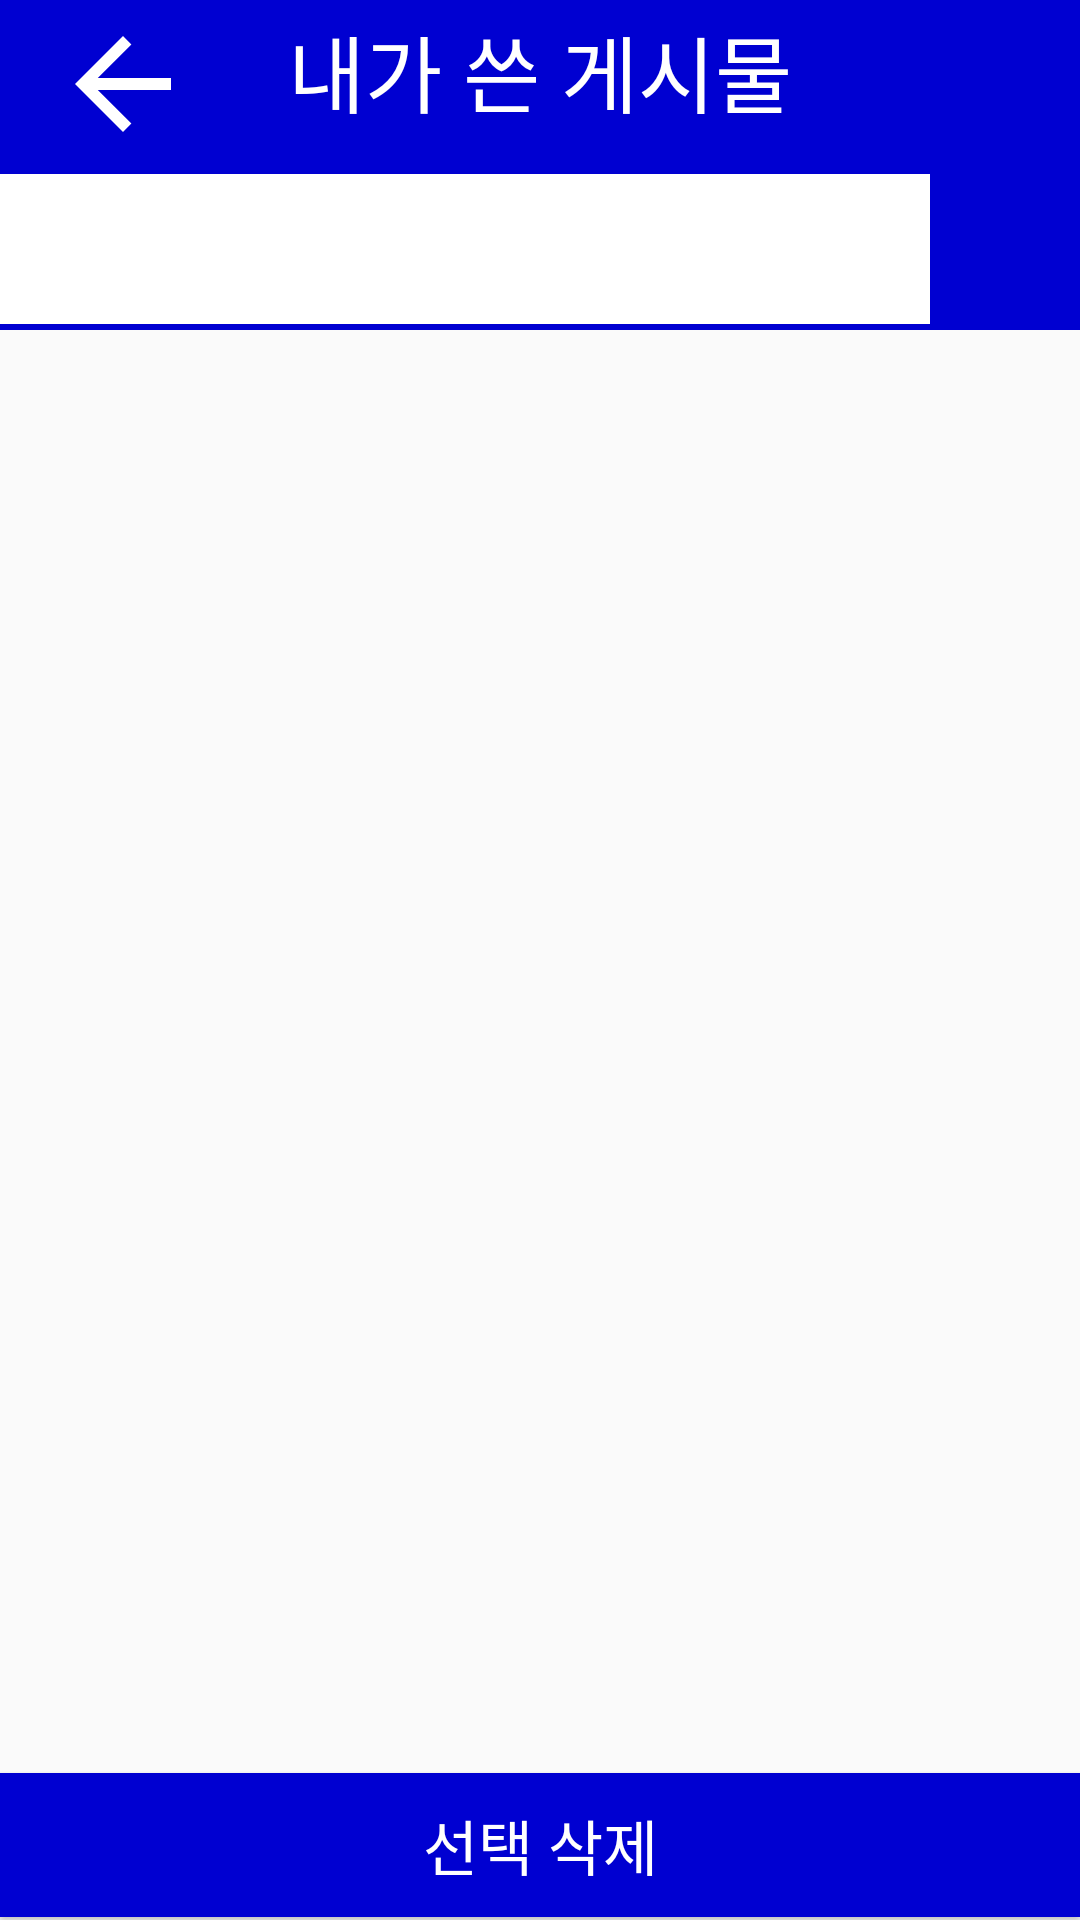

Icon click points for this 1080px×1920px phone screenshot, format (x=x, y=y):
back toolbar: (x=123, y=84)
